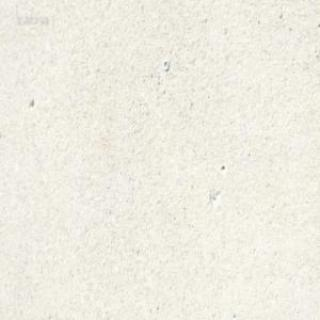Washertrack_idkeyframe: (162, 59, 168, 71)
